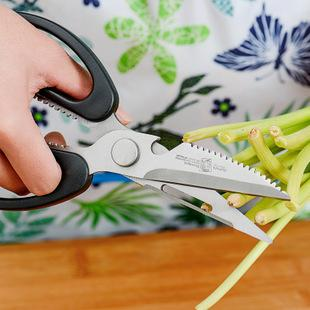scissor: (9, 7, 287, 248)
